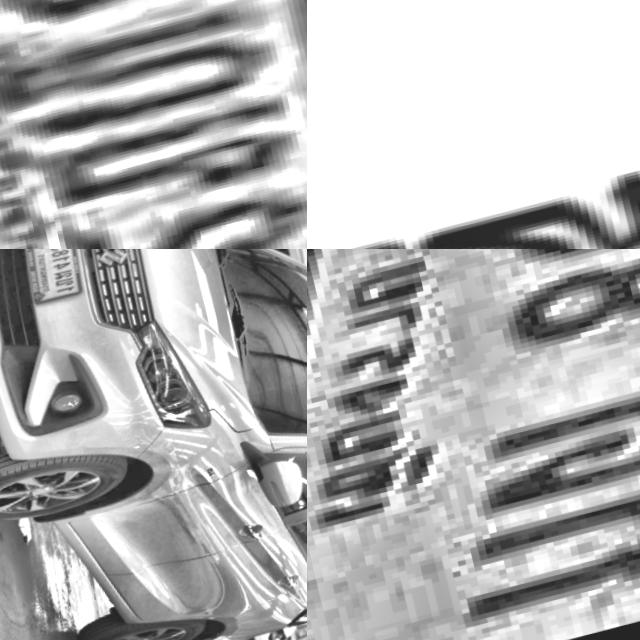license-plate: (307, 249, 640, 640), (307, 0, 640, 249), (0, 0, 307, 249), (17, 249, 88, 306)
